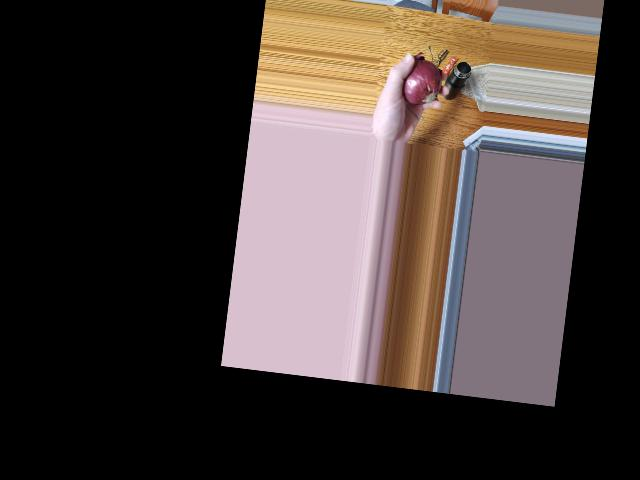onion: (395, 61, 437, 104)
